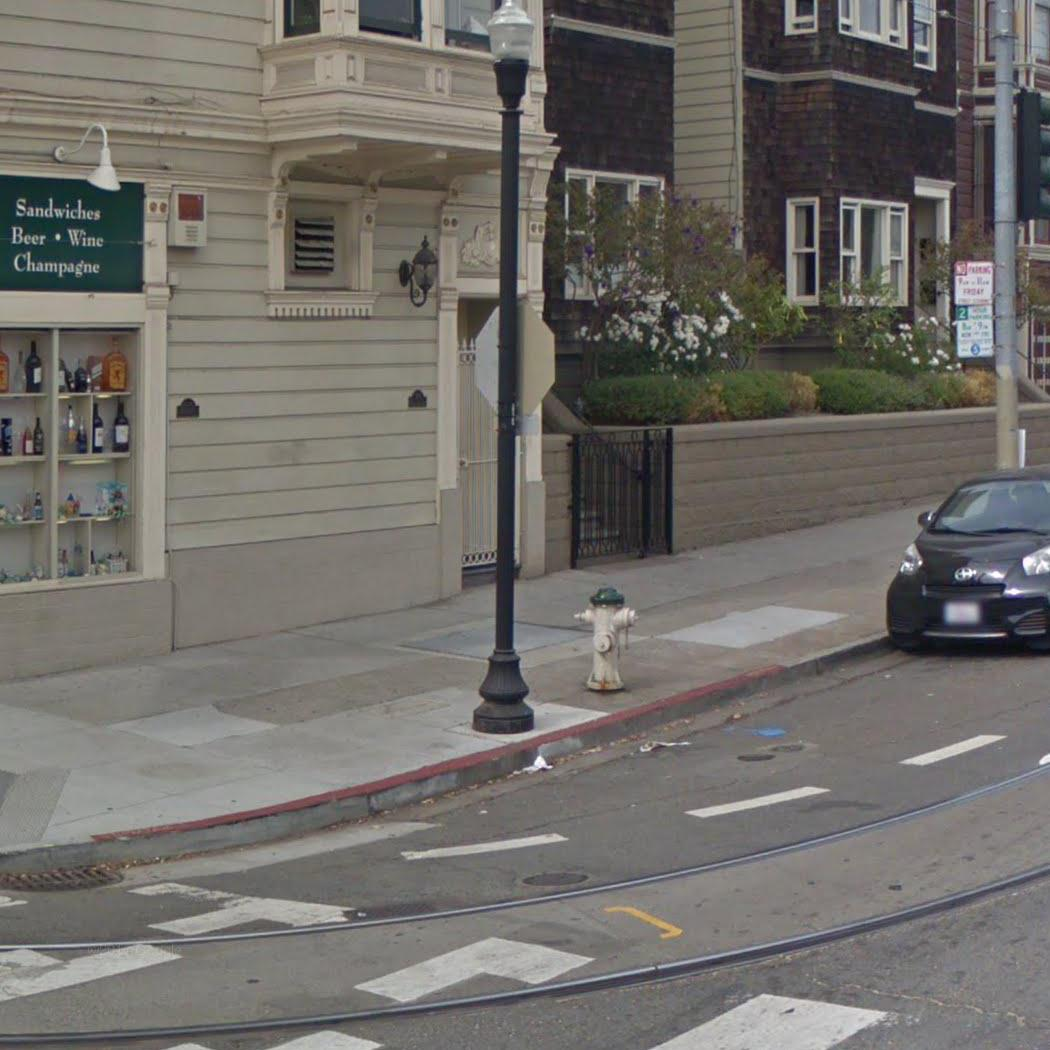2 Hour Parking: (954, 302, 998, 361)
No Parking: (951, 258, 997, 307)
